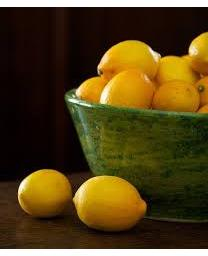lemon: (72, 175, 148, 229), (98, 41, 163, 83), (100, 68, 159, 112), (17, 170, 72, 214), (154, 79, 202, 113)
